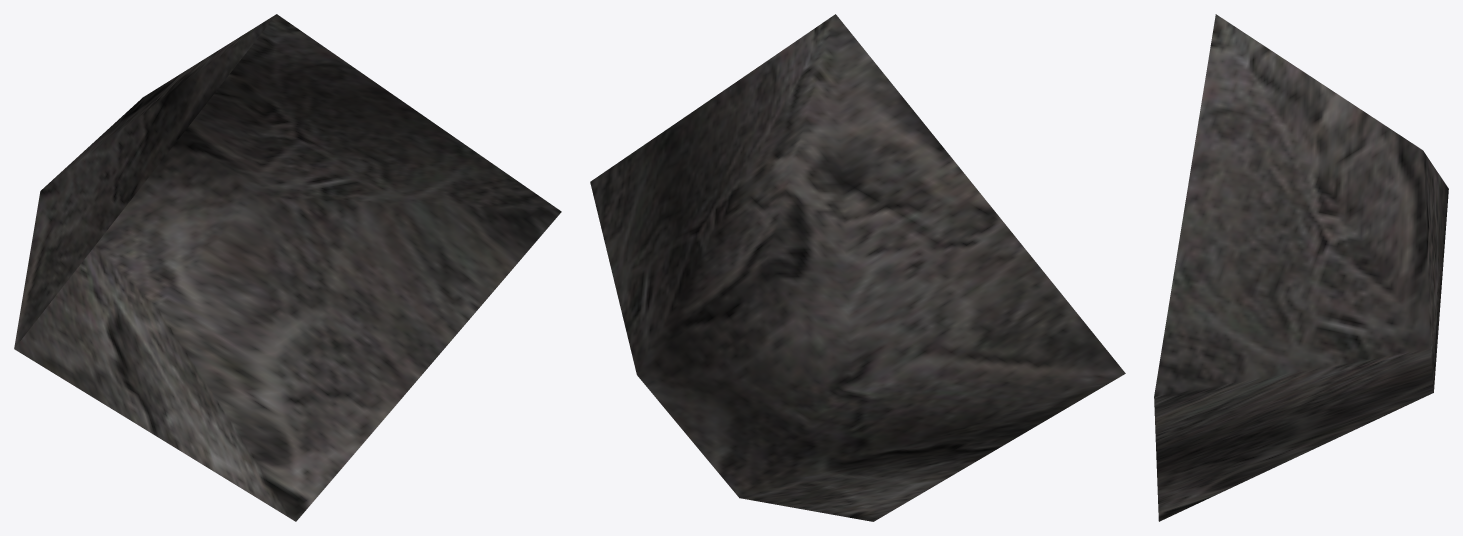
File: GSW_03.fbx
3 views of the same model, side by side, from view 1: azimuth 30°, elevation 25°; view 2: azimuth 150°, elevation 25°; view 3: azimuth 270°, elevation 25° (orthographic). The views are drawn at different scales.
Parts seen in each view (by area): view 1: GSW_03; view 2: GSW_03; view 3: GSW_03.
Boxes of the visible parts, <box> form: GSW_03: <box>14,14,561,521</box>; GSW_03: <box>590,14,1125,521</box>; GSW_03: <box>1154,14,1448,521</box>.
Bounding box in the file's own units: 1.31 × 1.17 × 0.6102.
